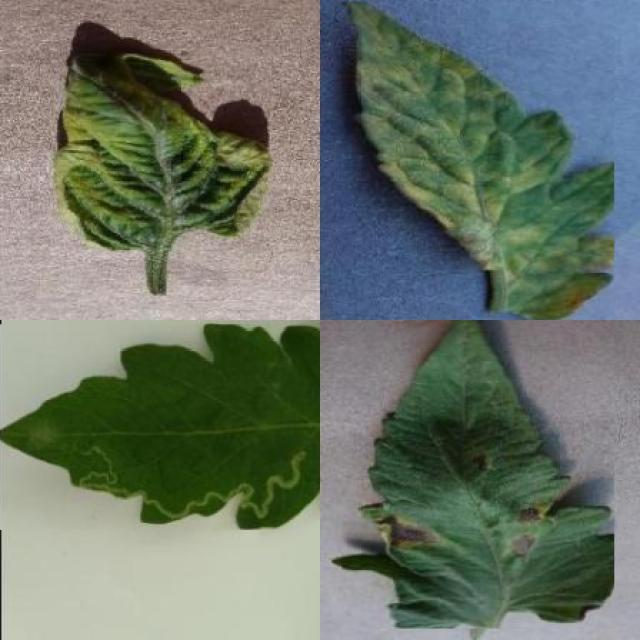Early Blight: (332, 320, 614, 629)
Leaf Miner: (0, 324, 320, 530)
Leaf Mold: (335, 1, 615, 320)
Yellow Leaf Curl Virus: (48, 44, 273, 252)
